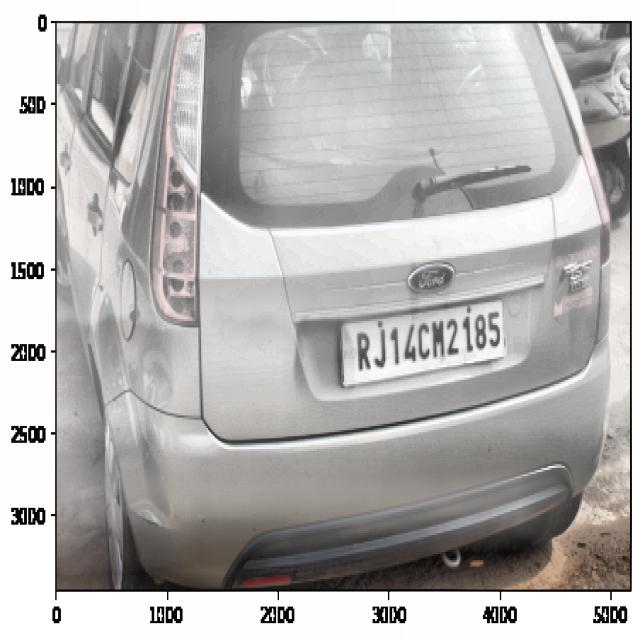license_plate: (347, 303, 506, 378)
